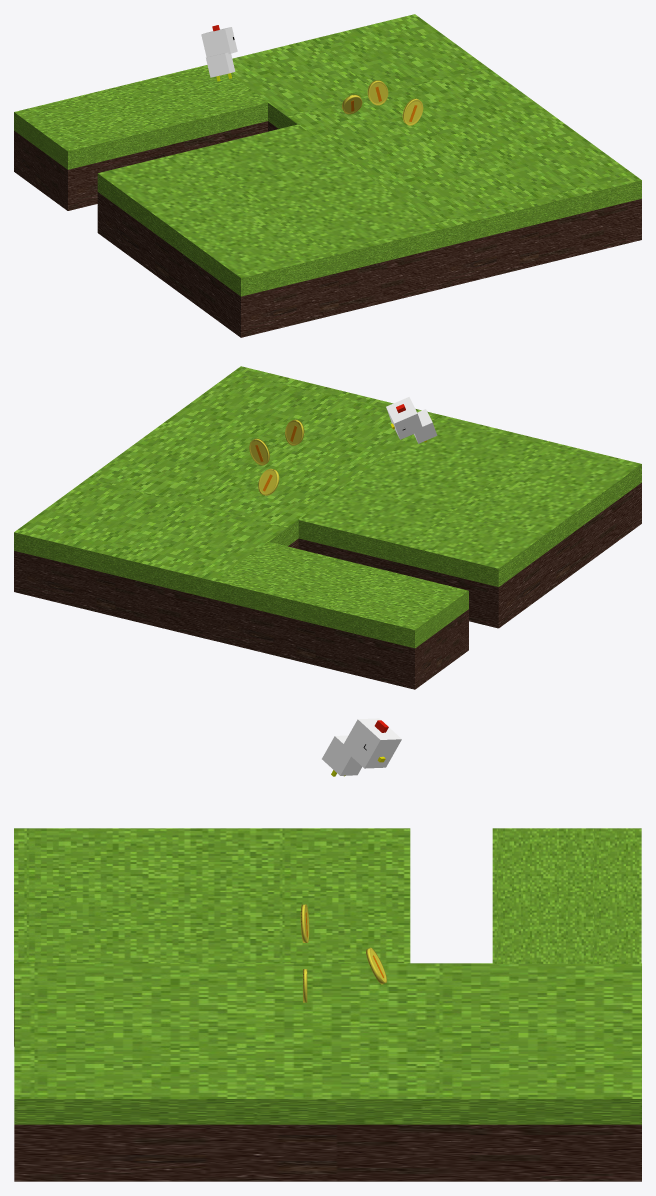
File: TitleStage.fbx
3 renders of one model, top to bottom at view 1: azimuth 30°, elevation 25°; view 2: azimuth 150°, elevation 25°; view 3: azimuth 270°, elevation 25°, orthographic. The views are drawn at different scales.
Visible parts, largest first — view 1: Grass, Bird, Coin; view 2: Grass, Bird, Coin; view 3: Grass, Bird, Coin.
Part boxes in pixels (left/top/right/bottom): Grass: left=14, top=14, right=641, bottom=337; Bird: left=201, top=25, right=237, bottom=81; Coin: left=342, top=80, right=423, bottom=125; Grass: left=14, top=366, right=641, bottom=689; Bird: left=386, top=397, right=437, bottom=443; Coin: left=249, top=419, right=304, bottom=495; Grass: left=14, top=828, right=641, bottom=1181; Bird: left=322, top=718, right=401, bottom=776; Coin: left=300, top=904, right=386, bottom=1002.
Bounding box in the file's own units: 7.13 × 3.25 × 6.99.
Materials: 22 (6 with a texture image).
